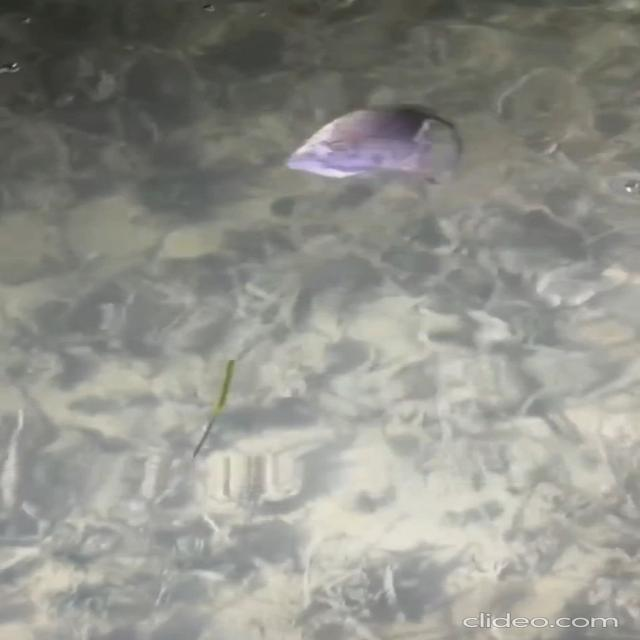fish: (275, 103, 486, 214)
